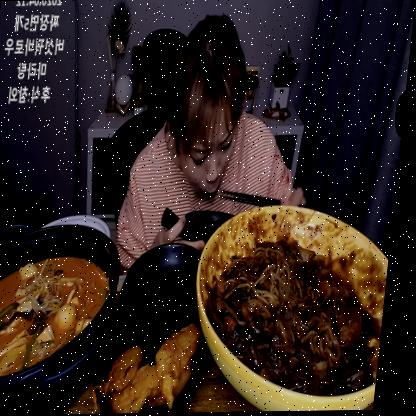streamer: (116, 14, 326, 270)
